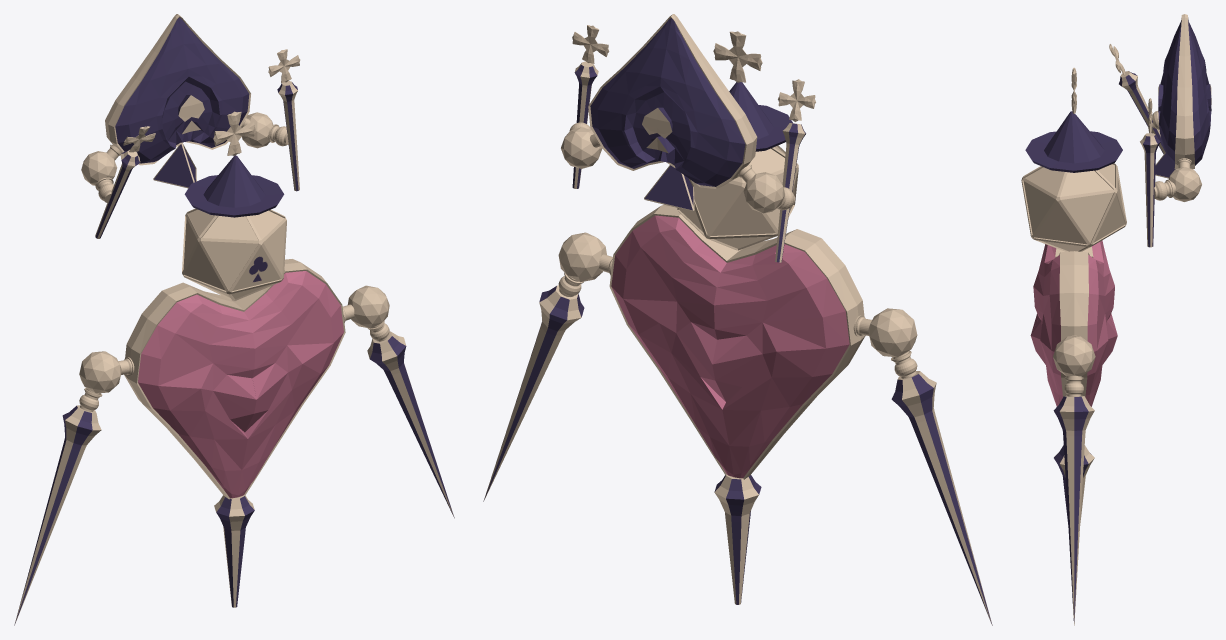
The model's file is enemy.obj.
3 views of the same model, side by side, from view 1: azimuth 30°, elevation 25°; view 2: azimuth 150°, elevation 25°; view 3: azimuth 270°, elevation 25° (orthographic). The views are drawn at different scales.
Parts seen in each view (by area): view 1: 立方体; view 2: 立方体; view 3: 立方体.
Boxes of the visible parts, bbox=[...] form: 立方体: bbox=[14, 14, 454, 625]; 立方体: bbox=[483, 14, 992, 625]; 立方体: bbox=[1021, 14, 1211, 625].
Bounding box in the file's own units: 2.01 × 2.41 × 0.7679.
